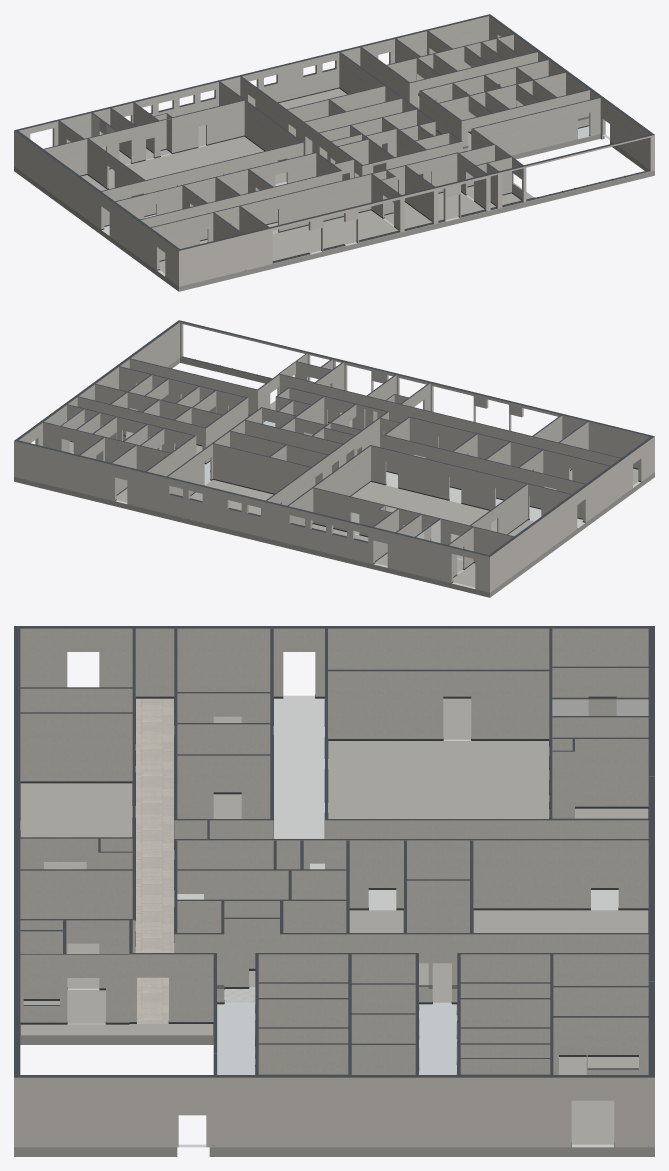
The model's file is 00_n1_estructura.glb.
3 renders of one model, top to bottom at view 1: azimuth 30°, elevation 25°; view 2: azimuth 150°, elevation 25°; view 3: azimuth 270°, elevation 25°, orthographic. The views are drawn at different scales.
Visible parts, largest first — view 1: Muros N1, Losa N1, Zoclo N1, Piso de pasillos N1; view 2: Muros N1, Losa N1, Piso de pasillos N1, Zoclo N1; view 3: Muros N1, Losa N1, Piso de pasillos N1, Zoclo N1.
Part boxes in pixels (box(x1,y1,x2,y2)): Muros N1: box(14, 14, 654, 286); Losa N1: box(14, 88, 654, 291); Zoclo N1: box(80, 87, 650, 276); Piso de pasillos N1: box(102, 126, 609, 276); Muros N1: box(14, 320, 654, 592); Losa N1: box(14, 358, 654, 597); Piso de pasillos N1: box(72, 421, 640, 588); Zoclo N1: box(69, 356, 641, 582); Muros N1: box(14, 626, 654, 1147); Losa N1: box(14, 698, 654, 1156); Piso de pasillos N1: box(67, 695, 618, 1147); Zoclo N1: box(20, 694, 648, 1146).
Size of the model in its own units: 50 by 4.1 by 30.
Materials: 11 (3 with a texture image).
